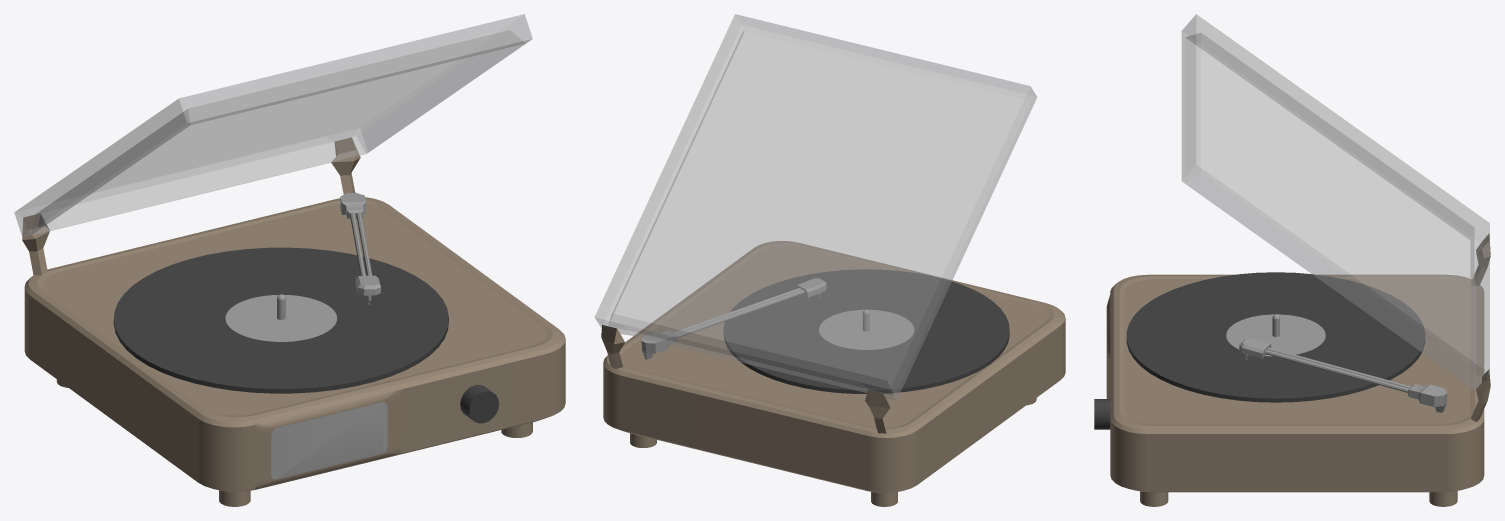
Rendered from VInylTest.fbx.
The picture shows the model from 3 angles, left to right: view 1: azimuth 30°, elevation 25°; view 2: azimuth 150°, elevation 25°; view 3: azimuth 270°, elevation 25°; orthographic projection. The views are drawn at different scales.
Visible parts, largest first — view 1: pCube9; view 2: pCube9; view 3: pCube9.
Part boxes in pixels (box(x1,y1,x2,y2)): pCube9: box(14, 14, 565, 506); pCube9: box(594, 14, 1065, 506); pCube9: box(1094, 14, 1490, 506).
Bounding box in the file's own units: 18 × 18.65 × 19.14.
